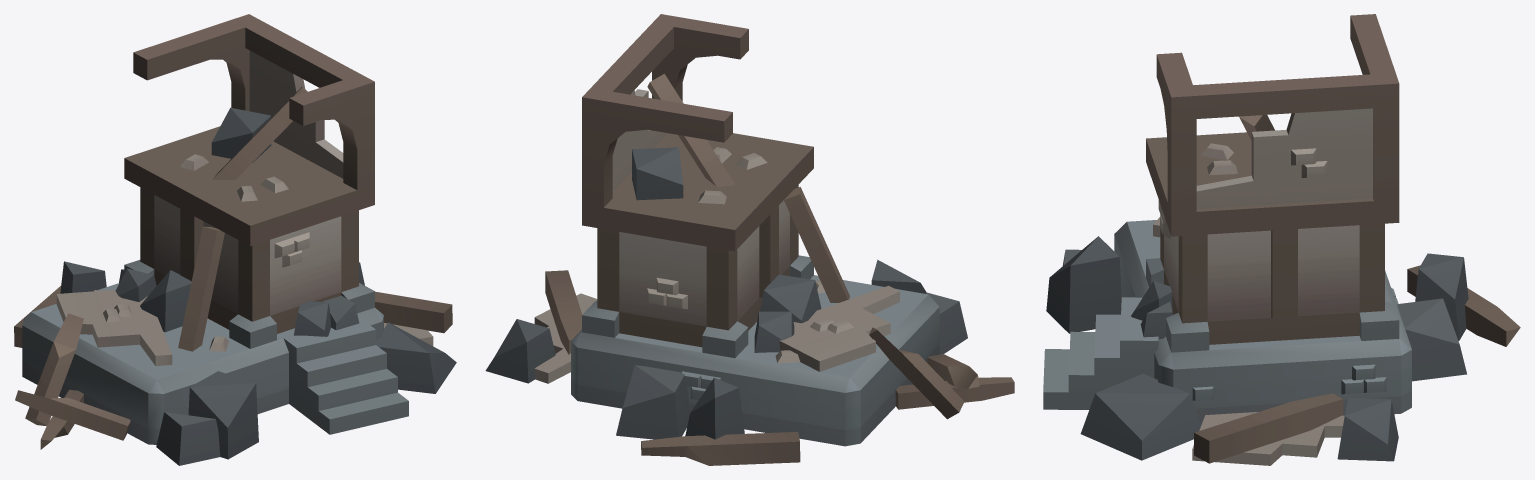
File: ruin.glb
The picture shows the model from 3 angles, left to right: view 1: azimuth 30°, elevation 25°; view 2: azimuth 150°, elevation 25°; view 3: azimuth 270°, elevation 25°; orthographic projection. The views are drawn at different scales.
Parts seen in each view (by area): view 1: building_destroyed; view 2: building_destroyed; view 3: building_destroyed.
Part boxes in pixels (left/top/right/bottom): building_destroyed: left=14, top=14, right=456, bottom=465; building_destroyed: left=485, top=14, right=1014, bottom=465; building_destroyed: left=1043, top=14, right=1520, bottom=465.
Bounding box in the file's own units: 1.54 × 0.9939 × 1.31.
1 material, 1 textured.
